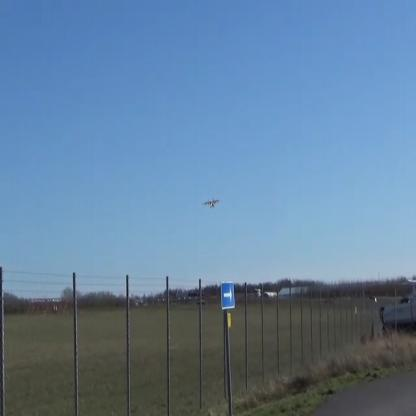CIV_Plane: (201, 194, 222, 212)
